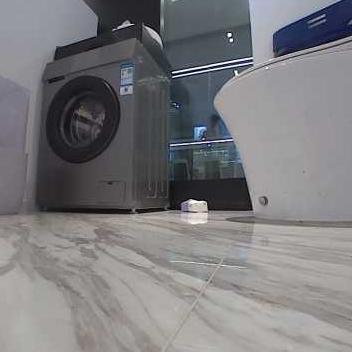floor_title: (0, 208, 352, 350)
tissue_bag: (180, 195, 209, 213)
toilet: (235, 32, 350, 222)
washing_machine: (31, 36, 171, 214)
